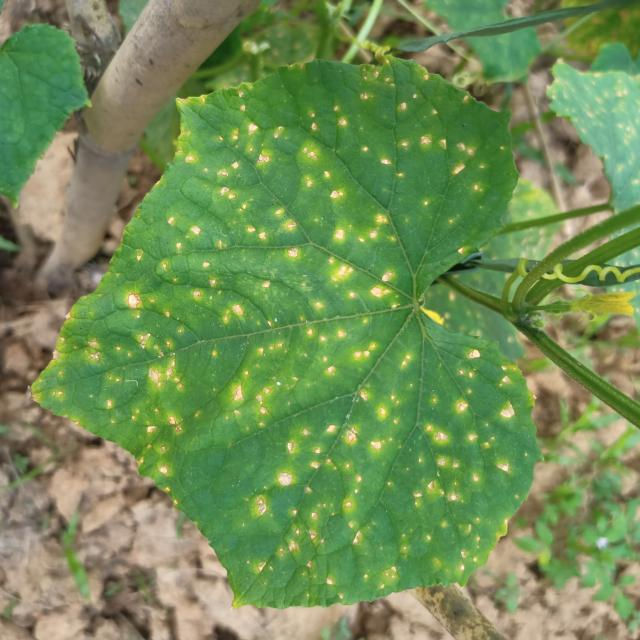disease_cucumber: (74, 89, 528, 577)
